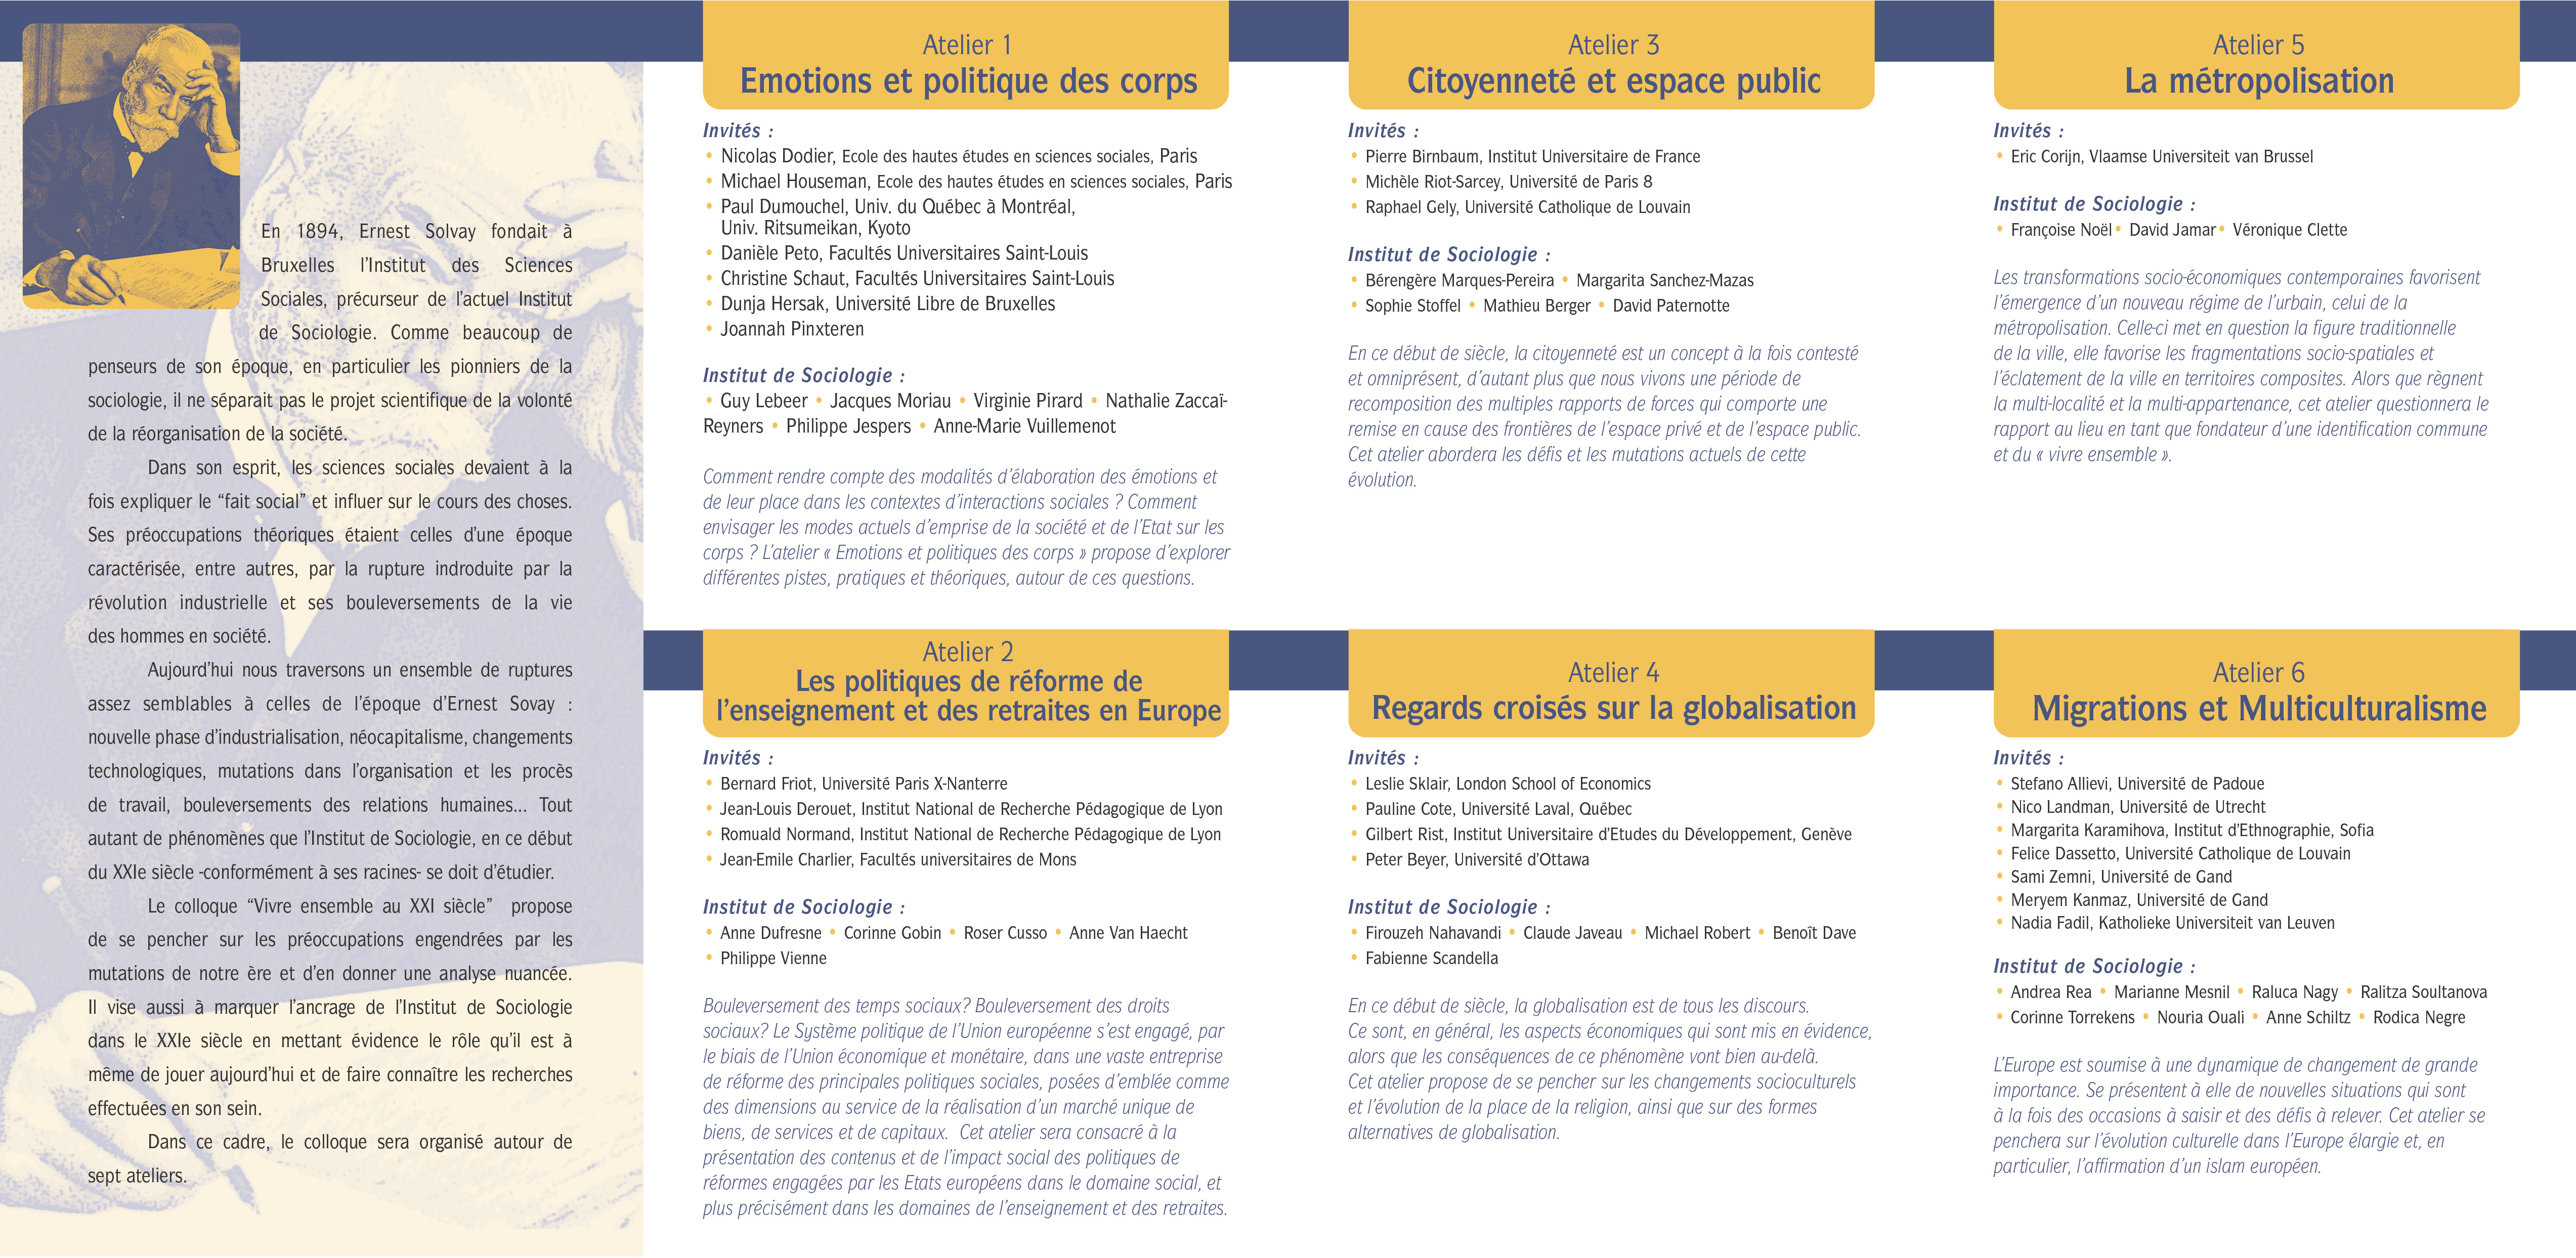figure: (33, 15, 243, 315), (30, 20, 237, 315)
list: (688, 741, 1268, 984), (1324, 744, 1865, 979), (675, 126, 1224, 315), (1322, 115, 1789, 332), (1988, 739, 2384, 946), (688, 350, 1253, 457), (1989, 103, 2374, 251), (1985, 954, 2500, 1033)
section: (713, 639, 1224, 744), (2032, 649, 2489, 736), (1370, 657, 1868, 734), (736, 36, 1206, 103), (1396, 25, 1845, 94), (2111, 30, 2385, 103)
text: (711, 992, 1249, 1230), (1989, 261, 2518, 493), (84, 655, 583, 890), (76, 895, 578, 1123), (1331, 977, 1870, 1159), (82, 457, 588, 644), (1341, 330, 1870, 504), (1988, 1041, 2492, 1192), (688, 465, 1244, 599), (79, 353, 572, 450), (260, 213, 572, 353), (84, 1128, 588, 1196)
